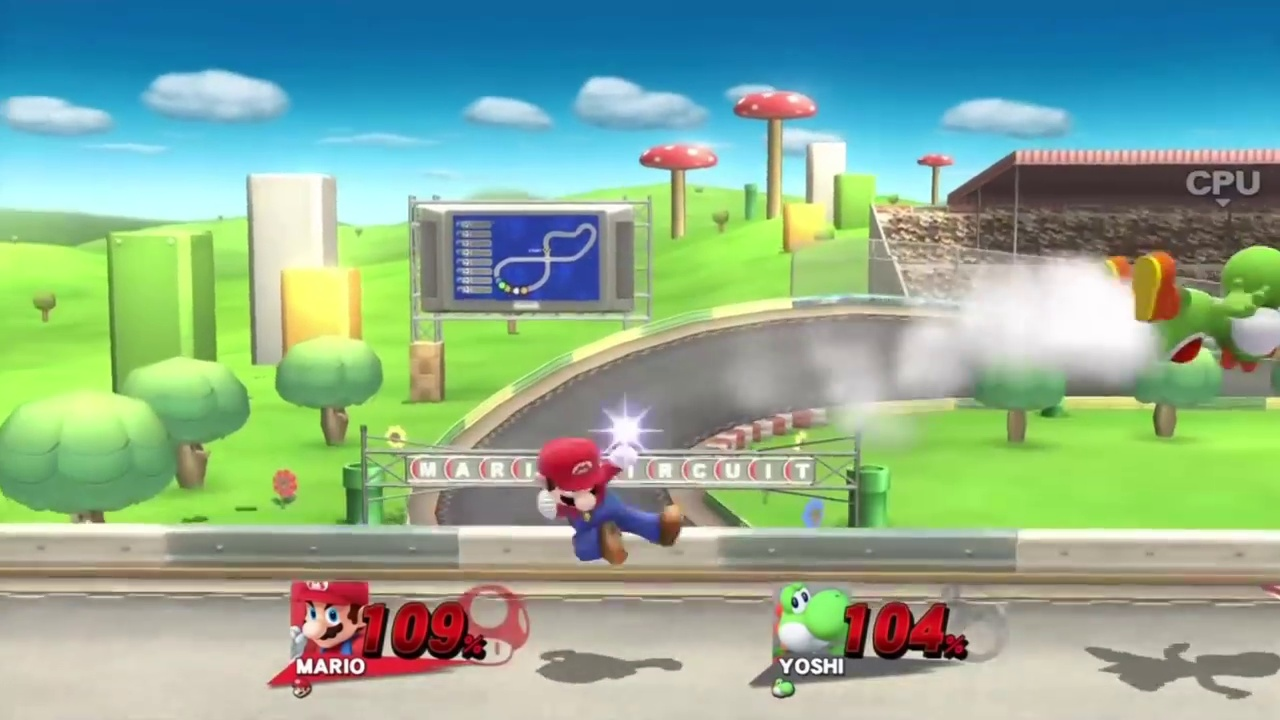Mario: (536, 438, 683, 564)
